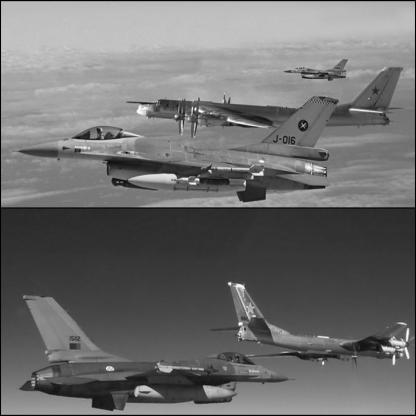F16: (8, 96, 341, 205), (17, 294, 298, 413), (283, 60, 350, 83)
Tu95: (125, 67, 407, 140), (209, 282, 416, 374)
